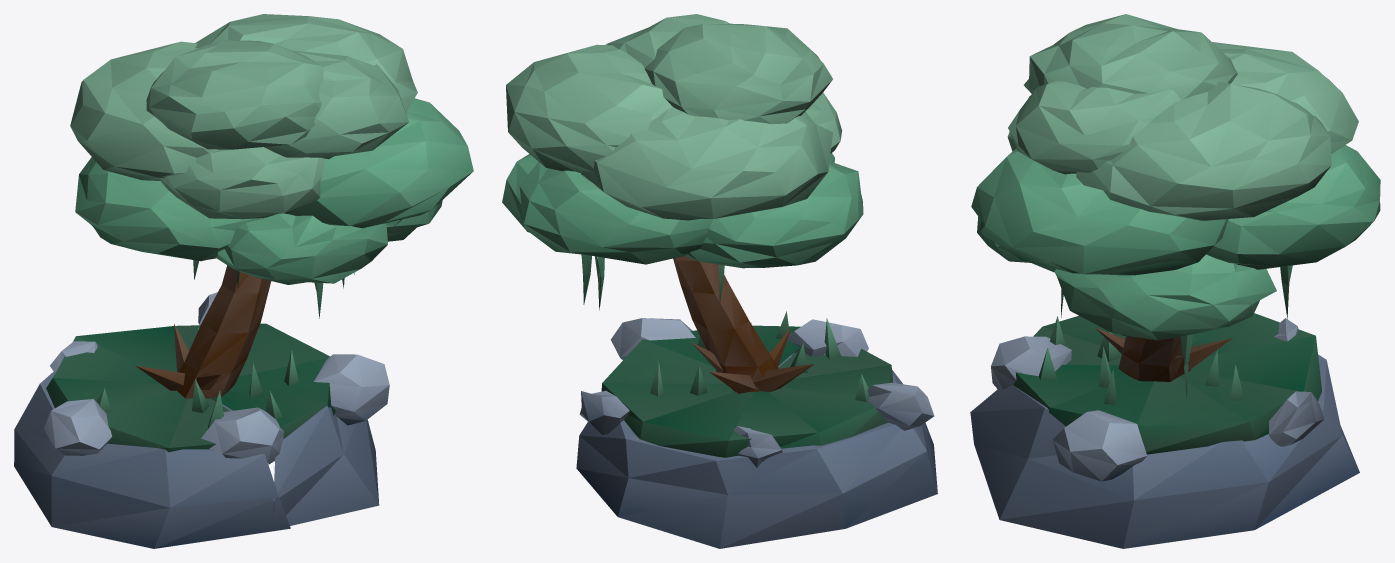
The model's file is pohon_river_emerald_532259.glb.
3 renders of one model, left to right at view 1: azimuth 30°, elevation 25°; view 2: azimuth 150°, elevation 25°; view 3: azimuth 270°, elevation 25°, orthographic. The views are drawn at different scales.
Visible parts, largest first — view 1: Dedaunan_Dan_Sulur, Pulau_Batu_Tepi_Sungai, Batang_Dan_Akar; view 2: Dedaunan_Dan_Sulur, Pulau_Batu_Tepi_Sungai, Batang_Dan_Akar; view 3: Dedaunan_Dan_Sulur, Pulau_Batu_Tepi_Sungai, Batang_Dan_Akar.
Part boxes in pixels (x1,y1,x2,y2): Dedaunan_Dan_Sulur: (70, 14, 473, 318); Pulau_Batu_Tepi_Sungai: (14, 292, 389, 548); Batang_Dan_Akar: (135, 265, 271, 401); Dedaunan_Dan_Sulur: (502, 14, 863, 310); Pulau_Batu_Tepi_Sungai: (576, 311, 937, 548); Batang_Dan_Akar: (673, 256, 814, 393); Dedaunan_Dan_Sulur: (971, 14, 1380, 398); Pulau_Batu_Tepi_Sungai: (970, 313, 1359, 548); Batang_Dan_Akar: (1095, 327, 1232, 381).
Size of the model in its own units: 6.6 by 6.54 by 5.53.
